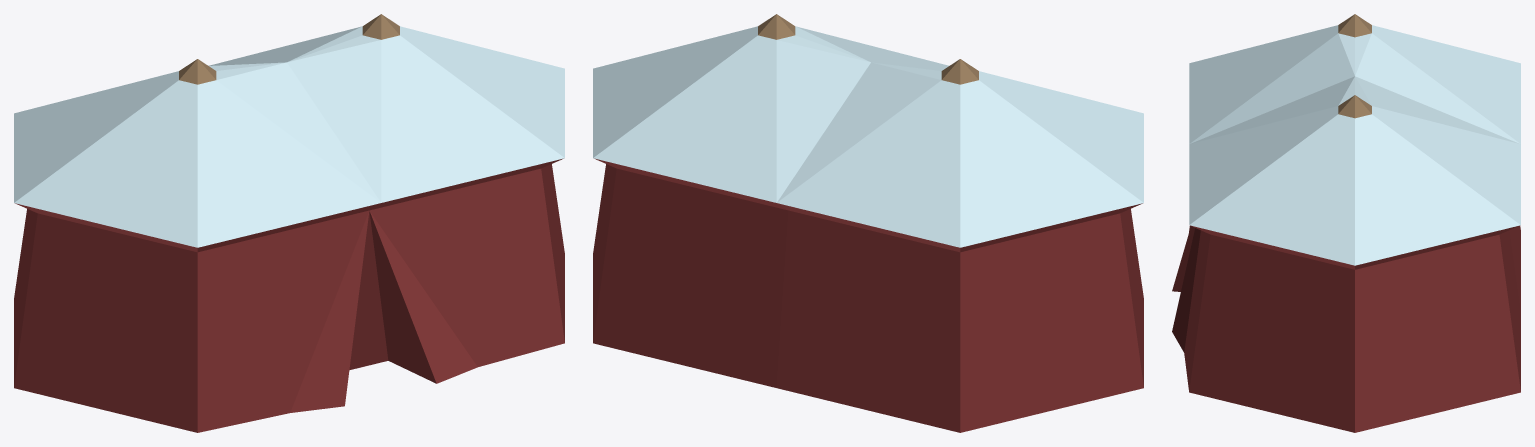
The model's file is SM_Bld_Knights_Tent_01_Snow.fbx.
3 views of the same model, side by side, from view 1: azimuth 30°, elevation 25°; view 2: azimuth 150°, elevation 25°; view 3: azimuth 270°, elevation 25° (orthographic). The views are drawn at different scales.
Parts seen in each view (by area): view 1: SM_Bld_Knights_Tent_01_Snow; view 2: SM_Bld_Knights_Tent_01_Snow; view 3: SM_Bld_Knights_Tent_01_Snow.
Boxes of the visible parts, x1,y1,x2,y2 form: SM_Bld_Knights_Tent_01_Snow: (14,14,564,432); SM_Bld_Knights_Tent_01_Snow: (593,14,1143,432); SM_Bld_Knights_Tent_01_Snow: (1172,14,1520,432).
Bounding box in the file's own units: 169 × 83.53 × 103.
1 material, 1 textured.
